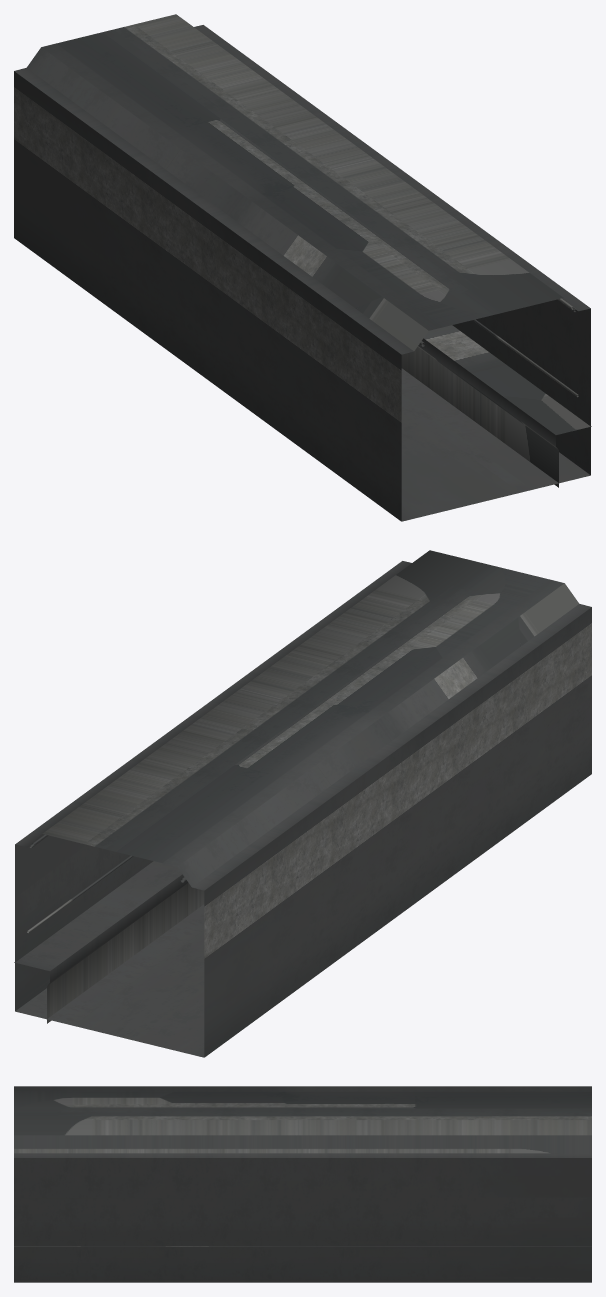
Rendered from tunnel.fbx.
3 views of the same model, one above another, from view 1: azimuth 30°, elevation 25°; view 2: azimuth 150°, elevation 25°; view 3: azimuth 270°, elevation 25° (orthographic). The views are drawn at different scales.
Visible parts, largest first — view 1: Tunnel; view 2: Tunnel; view 3: Tunnel.
Part boxes in pixels (x1,y1,x2,y2): Tunnel: [14, 14, 591, 521]; Tunnel: [14, 550, 591, 1057]; Tunnel: [14, 1086, 591, 1282].
Bounding box in the file's own units: 5280 × 5010 × 18615.
